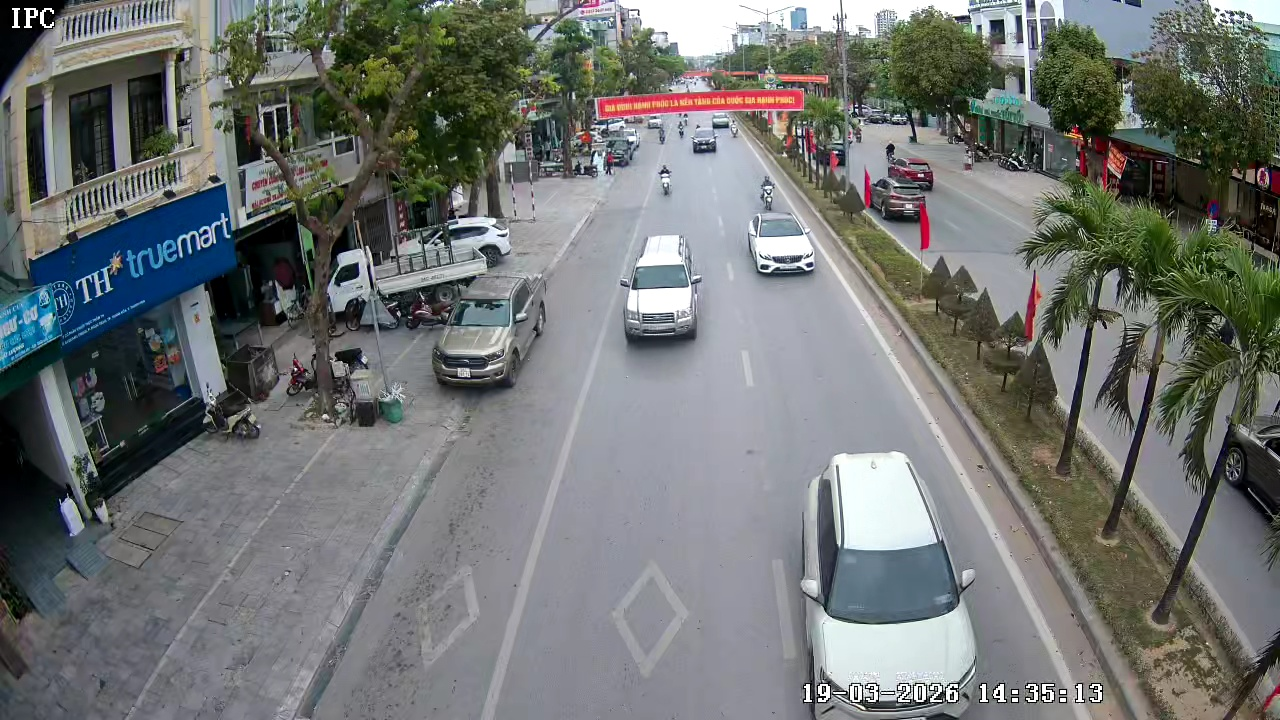car: (797, 451, 987, 719), (430, 272, 547, 387), (618, 234, 705, 342), (745, 207, 817, 276), (869, 161, 932, 220), (607, 135, 638, 173), (692, 127, 718, 154)
motorbike: (757, 175, 776, 209), (657, 162, 674, 196)
